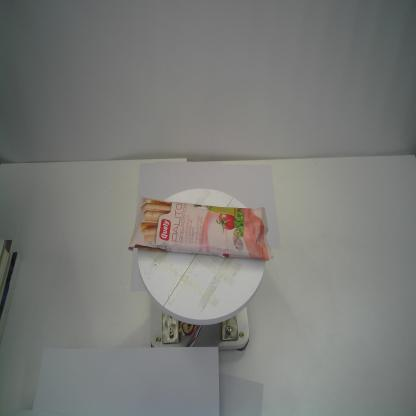Dessert: (127, 196, 274, 263)
